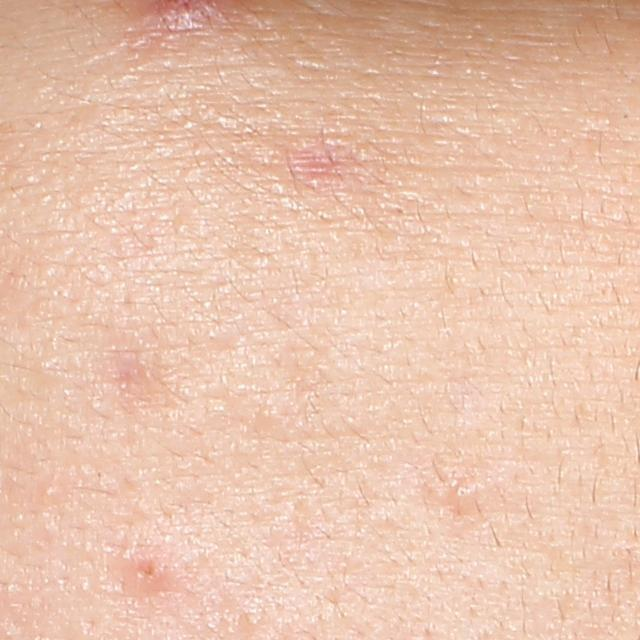comedo: (447, 481, 476, 505), (44, 483, 57, 498)
papule: (122, 544, 175, 599)
